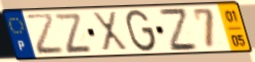7: (192, 7, 220, 51)
G: (124, 8, 158, 54)
X: (90, 10, 131, 53)
Z: (156, 7, 201, 53), (23, 12, 67, 57), (52, 12, 94, 56)
